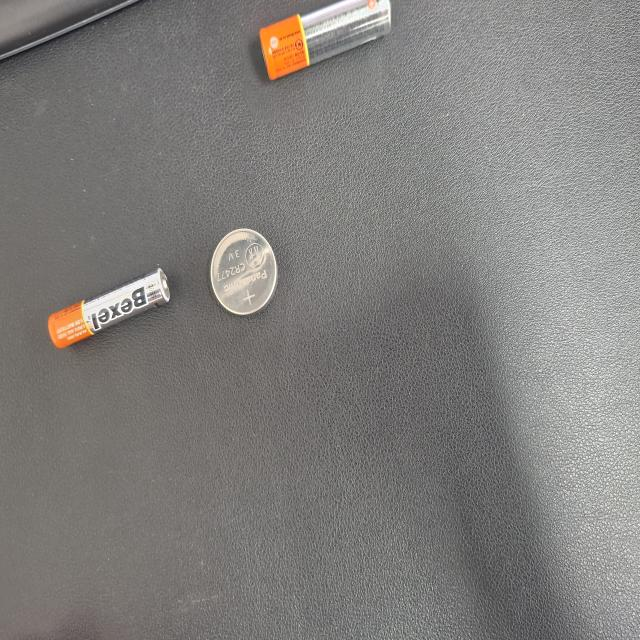AA: (0, 335, 60, 507)
COIN: (171, 483, 239, 574)
